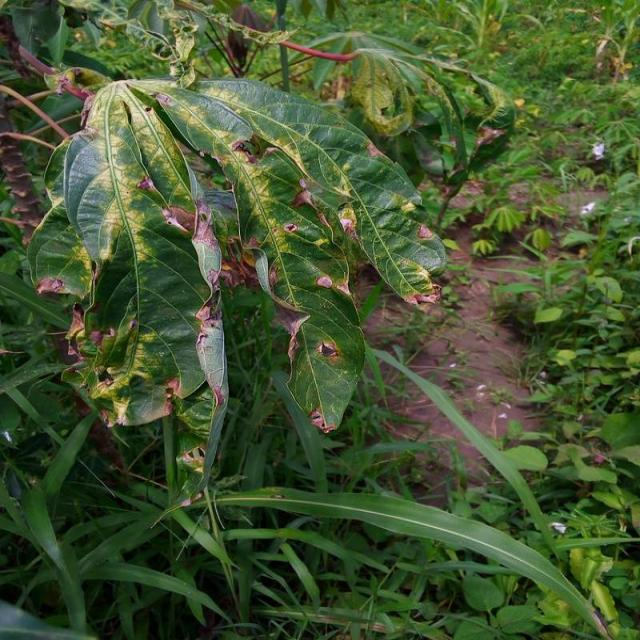cassava leaf: (33, 71, 447, 504)
